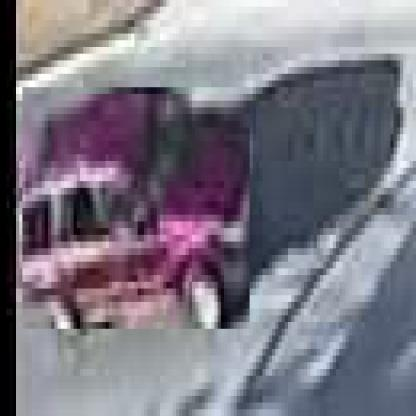car: (20, 88, 251, 337)
